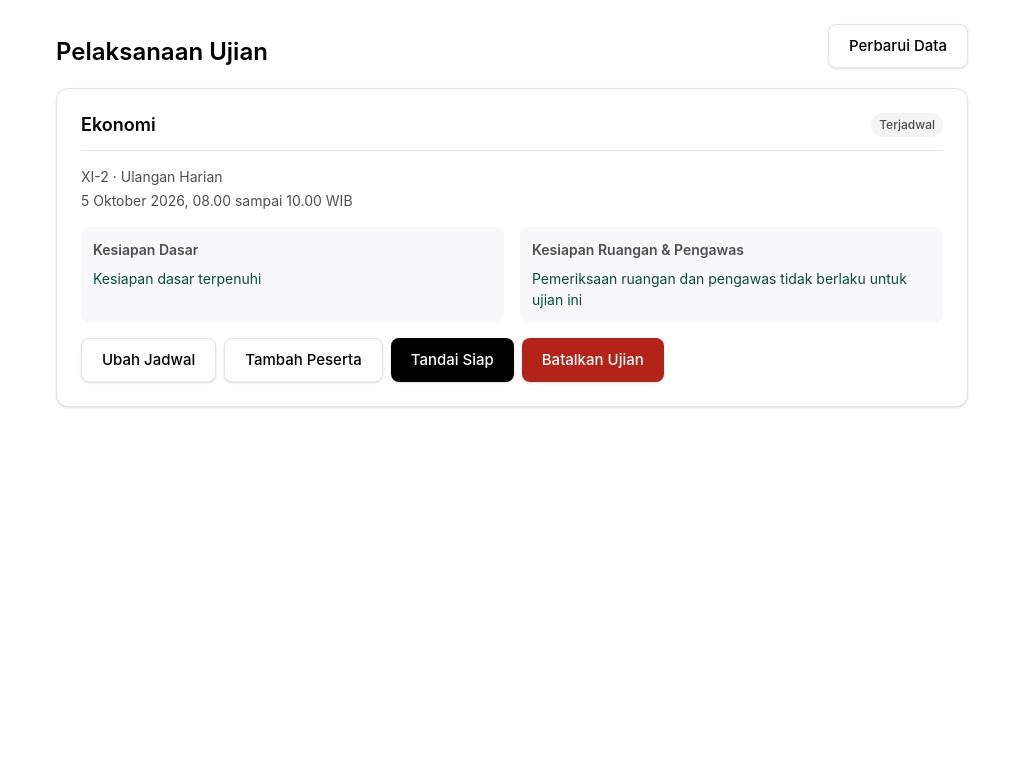
it: rescheduling on the teacher screen › starts from the current schedule in school time and saves the new one
Click the button "Ubah Jadwal".
click(149, 360)  # box [81, 338, 216, 382]
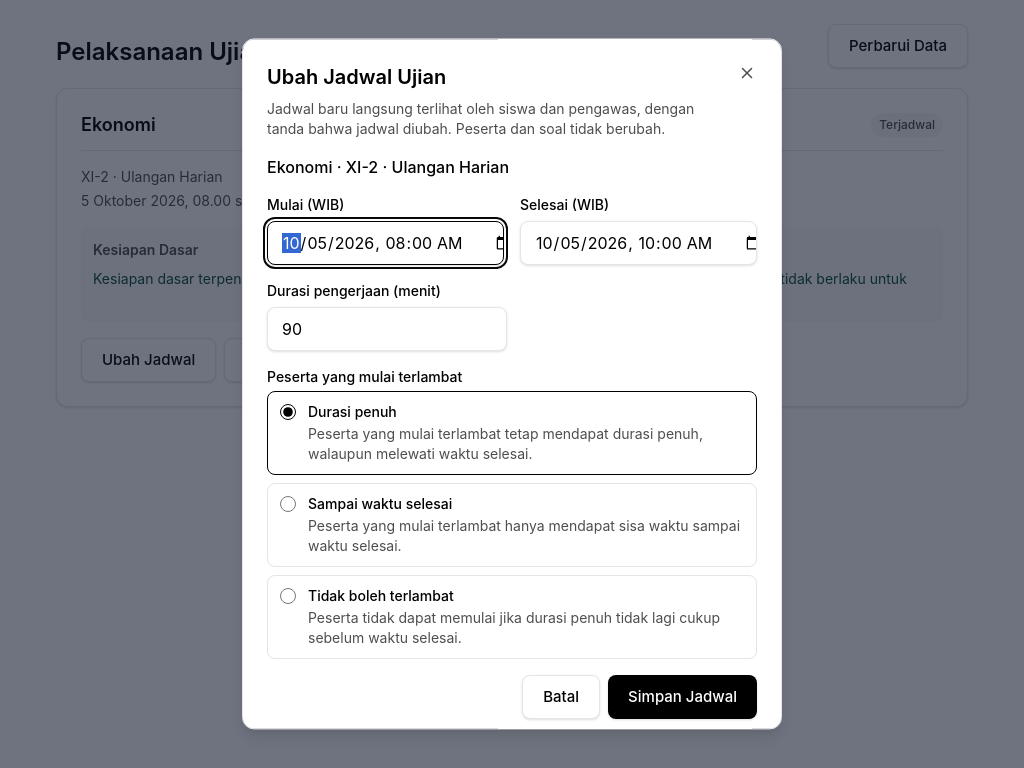
Result: the text "Ekonomi · XI-2 · Ulangan Harian" is shown at [267, 157, 509, 177]
Result: the text "Peserta dan soal tidak berubah" is shown at [267, 100, 694, 137]
Result: the field labelled "Mulai (WIB)" holds "2026-10-05T08:00"
Replace the text in the field labelled "Mulai (WIB)" with "2026-10-05T10:00" at point(386, 243), box [267, 221, 504, 265]
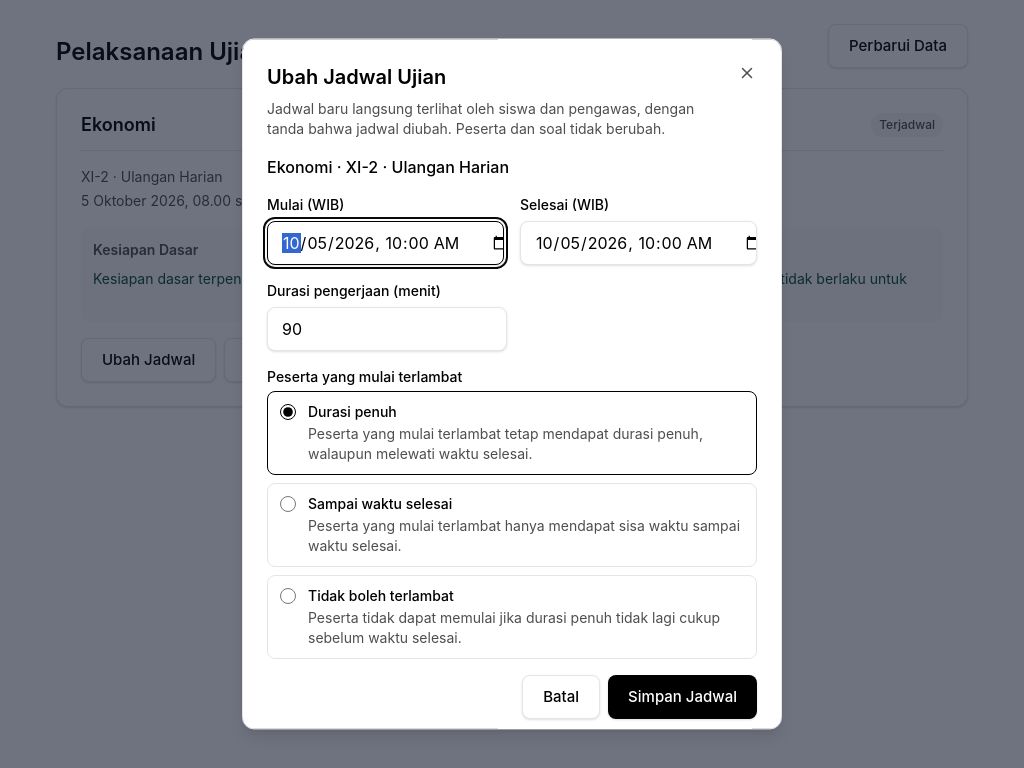
Replace the text in the field labelled "Selesai (WIB)" with "2026-10-05T12:00" at point(638, 243), box [520, 221, 757, 265]
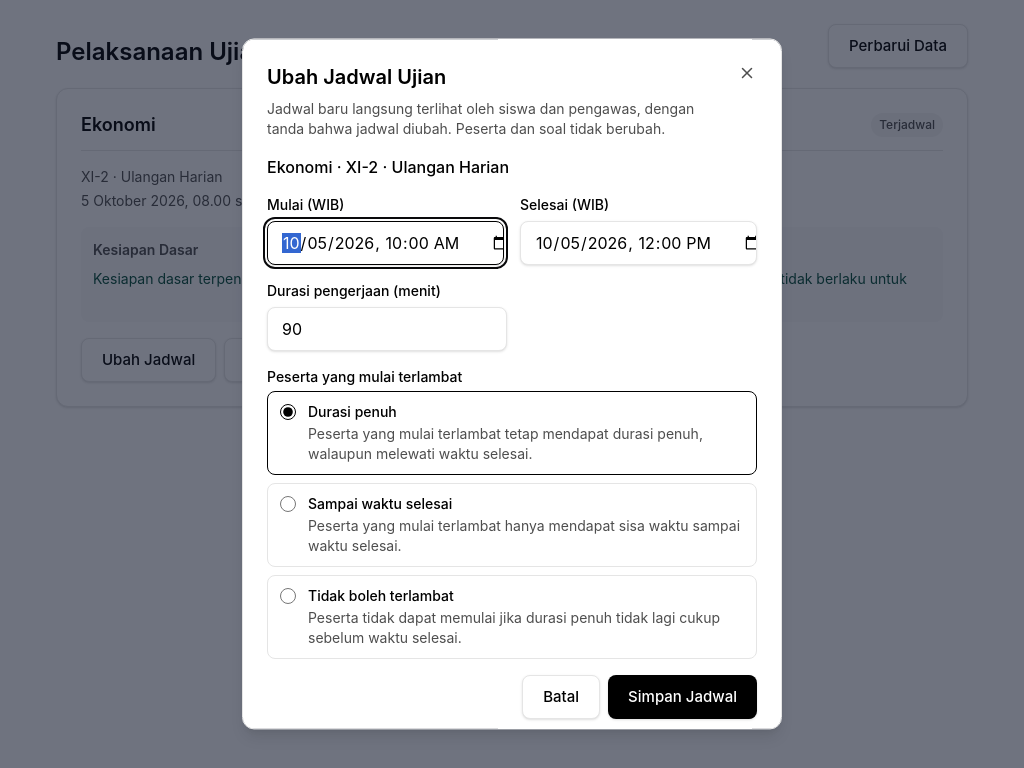
Replace the text in the number field labelled "Durasi pengerjaan (menit)" with "60" at point(387, 329), box [267, 307, 507, 351]
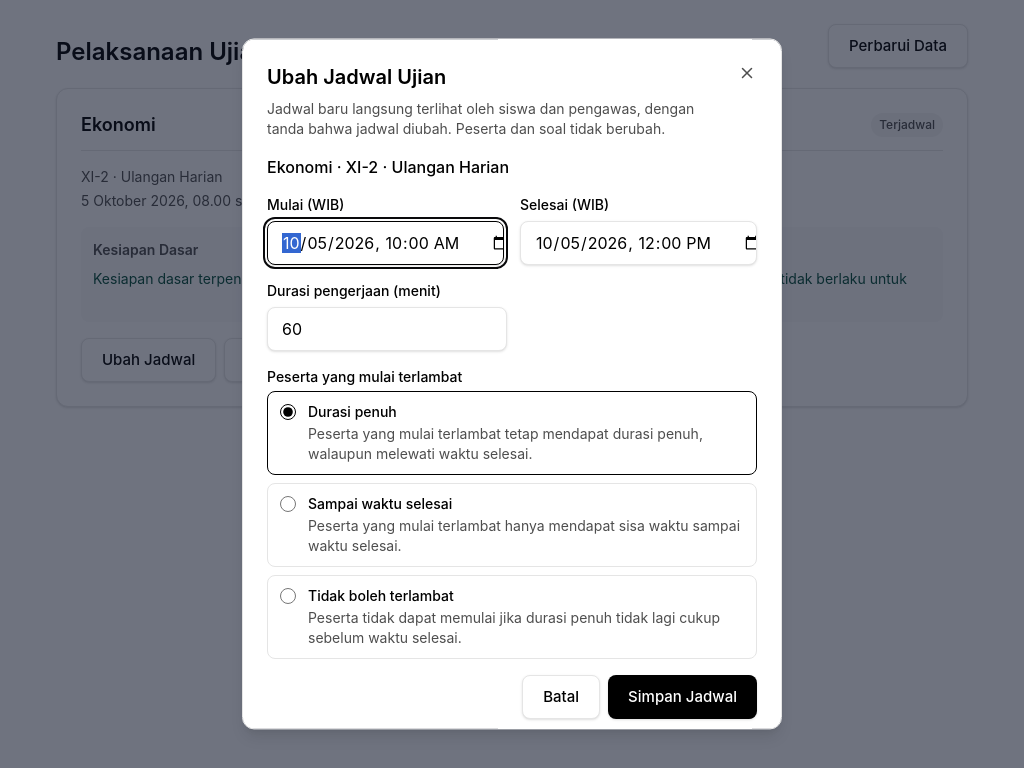
Click the radio button labelled "Sampai waktu selesai".
click(288, 504)  # box [280, 496, 296, 512]
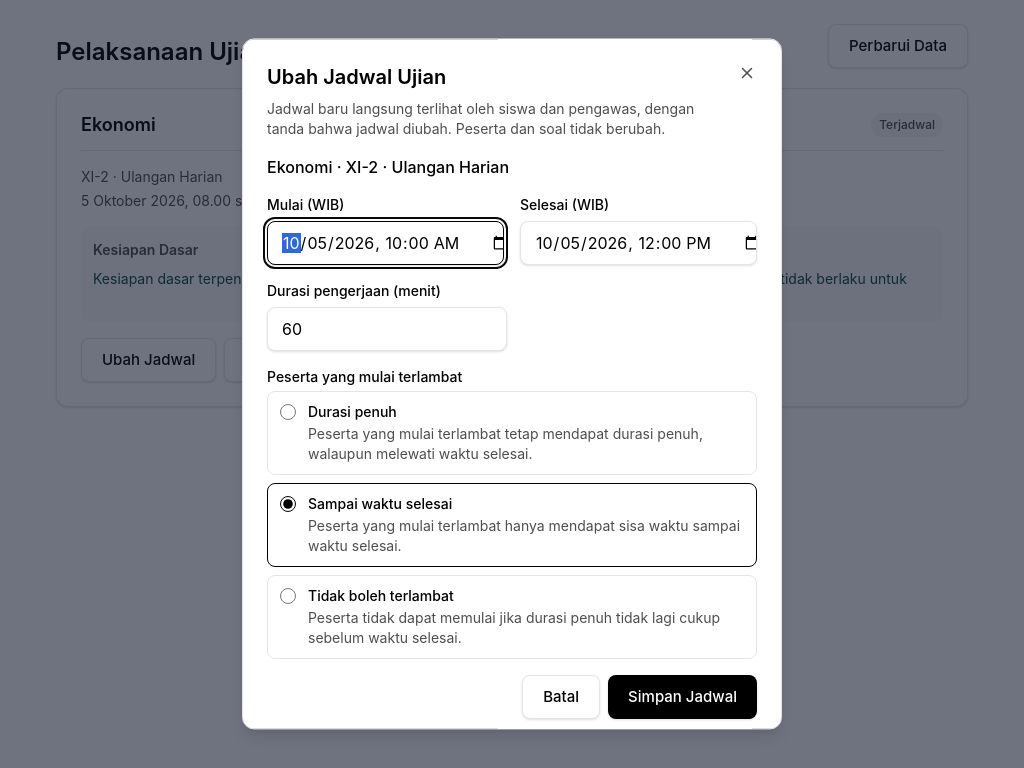
Click the button "Simpan Jadwal".
click(683, 697)  # box [608, 675, 757, 719]
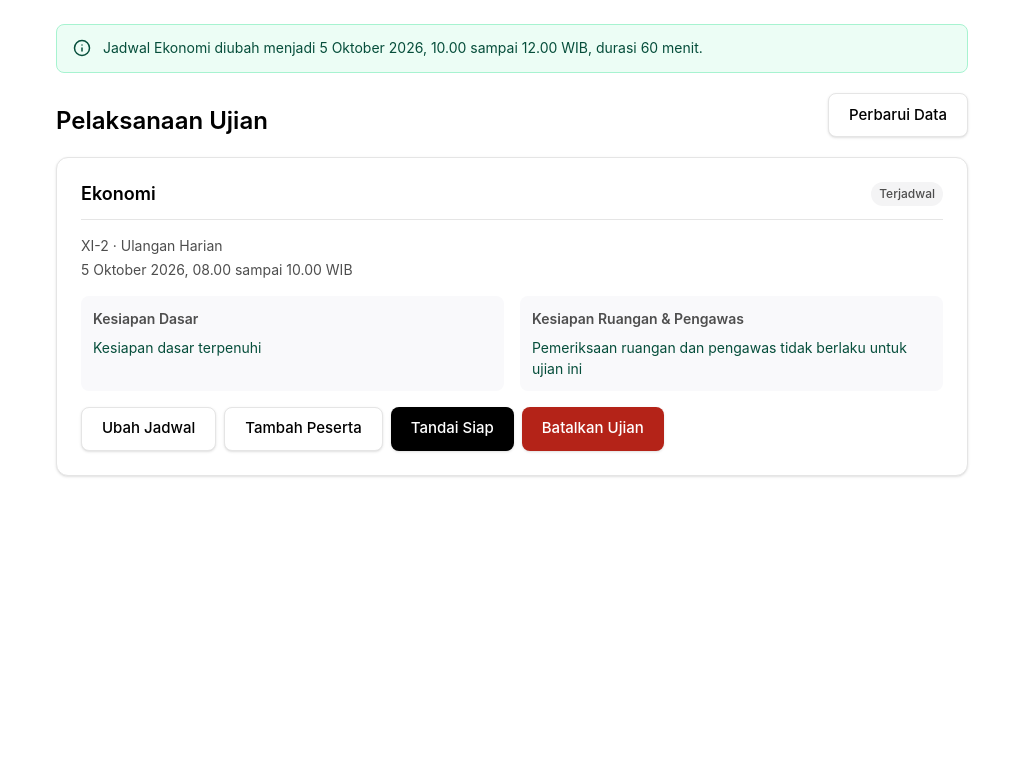
Result: the text "Jadwal Ekonomi diubah menjadi 5 Oktober 2026, 10.00 sampai 12.00 WIB, durasi 60 menit." is shown at [103, 39, 703, 56]
Result: the dialog is gone
